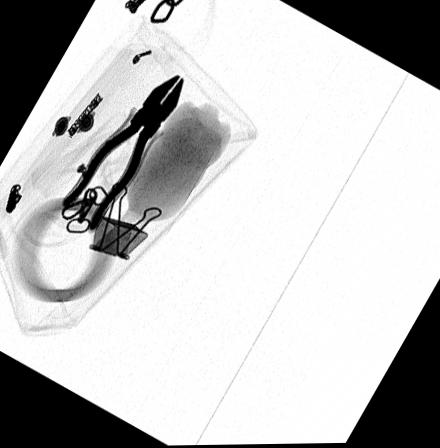Pliers: (59, 72, 184, 232)
